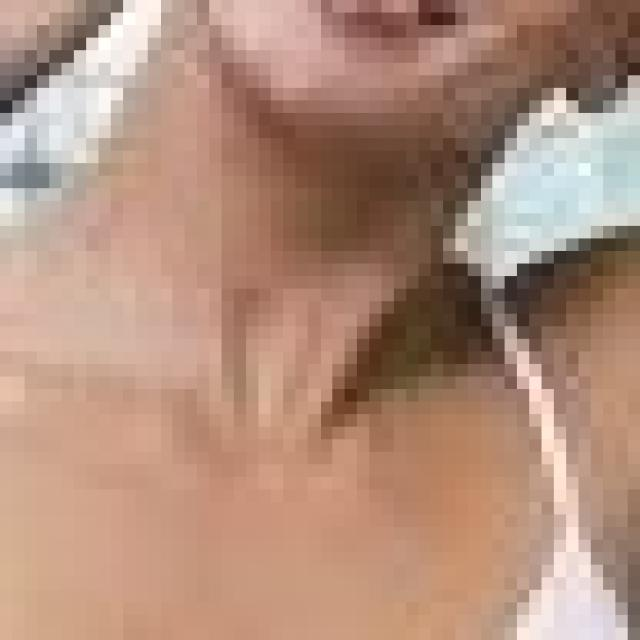Healthy: (2, 11, 439, 437)
